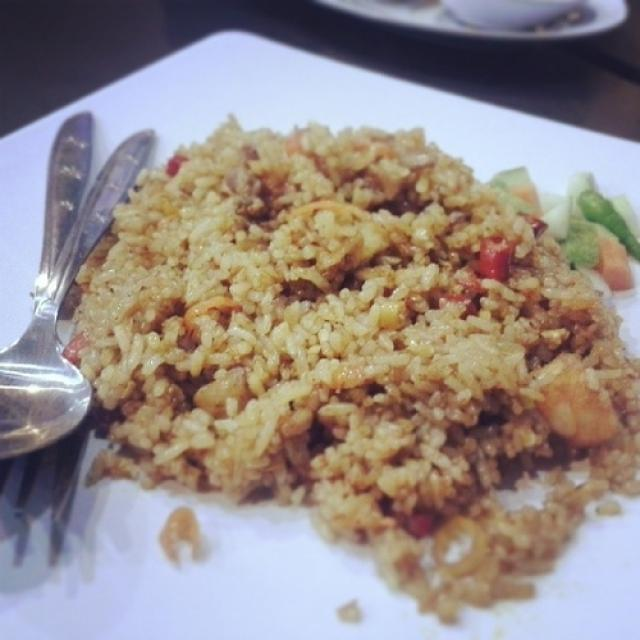米饭主食: (8, 34, 626, 616)
